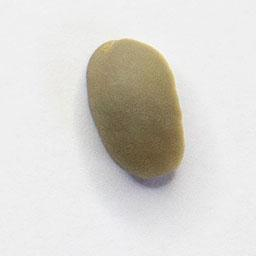peaberry: (83, 35, 187, 184)
